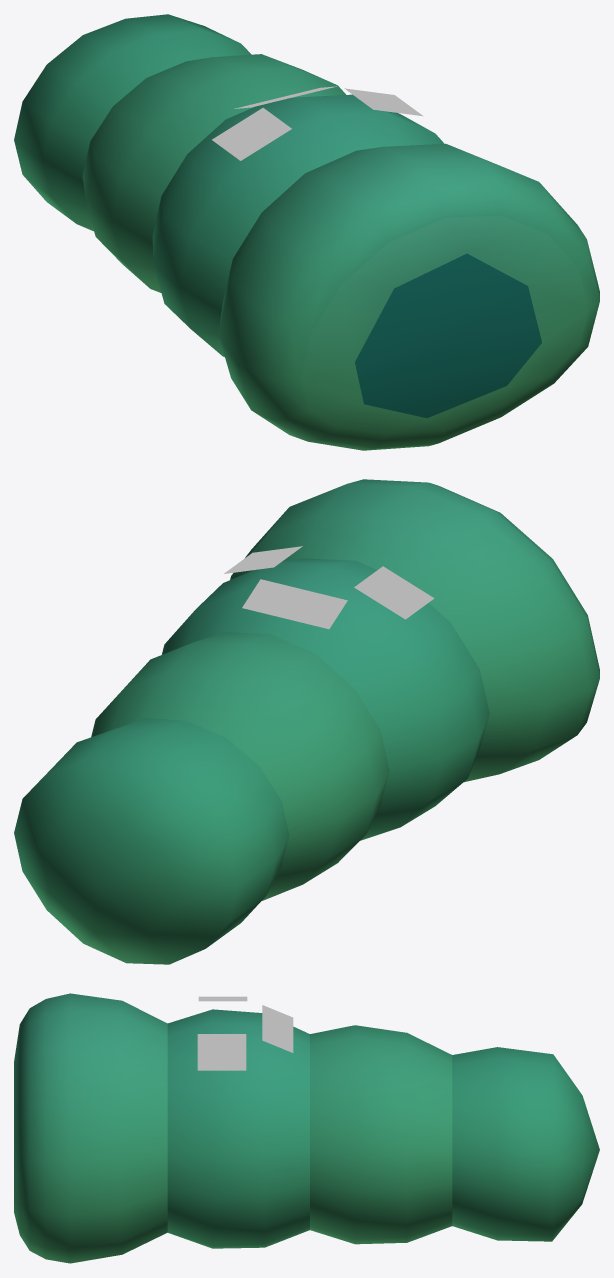
Rendered from sweet_tube_green_smile.fbx.
3 renders of one model, top to bottom at view 1: azimuth 30°, elevation 25°; view 2: azimuth 150°, elevation 25°; view 3: azimuth 270°, elevation 25°, orthographic. The views are drawn at different scales.
Parts seen in each view (by area): view 1: pie_green, smile_pie; view 2: pie_green, smile_pie; view 3: pie_green, smile_pie.
Part boxes in pixels (x1,y1,x2,y2): pie_green: [14, 14, 599, 450]; smile_pie: [212, 86, 423, 160]; pie_green: [14, 479, 599, 964]; smile_pie: [224, 546, 434, 629]; pie_green: [14, 993, 599, 1263]; smile_pie: [197, 996, 293, 1070].
Bounding box in the file's own units: 34.33 × 25.87 × 58.99.
